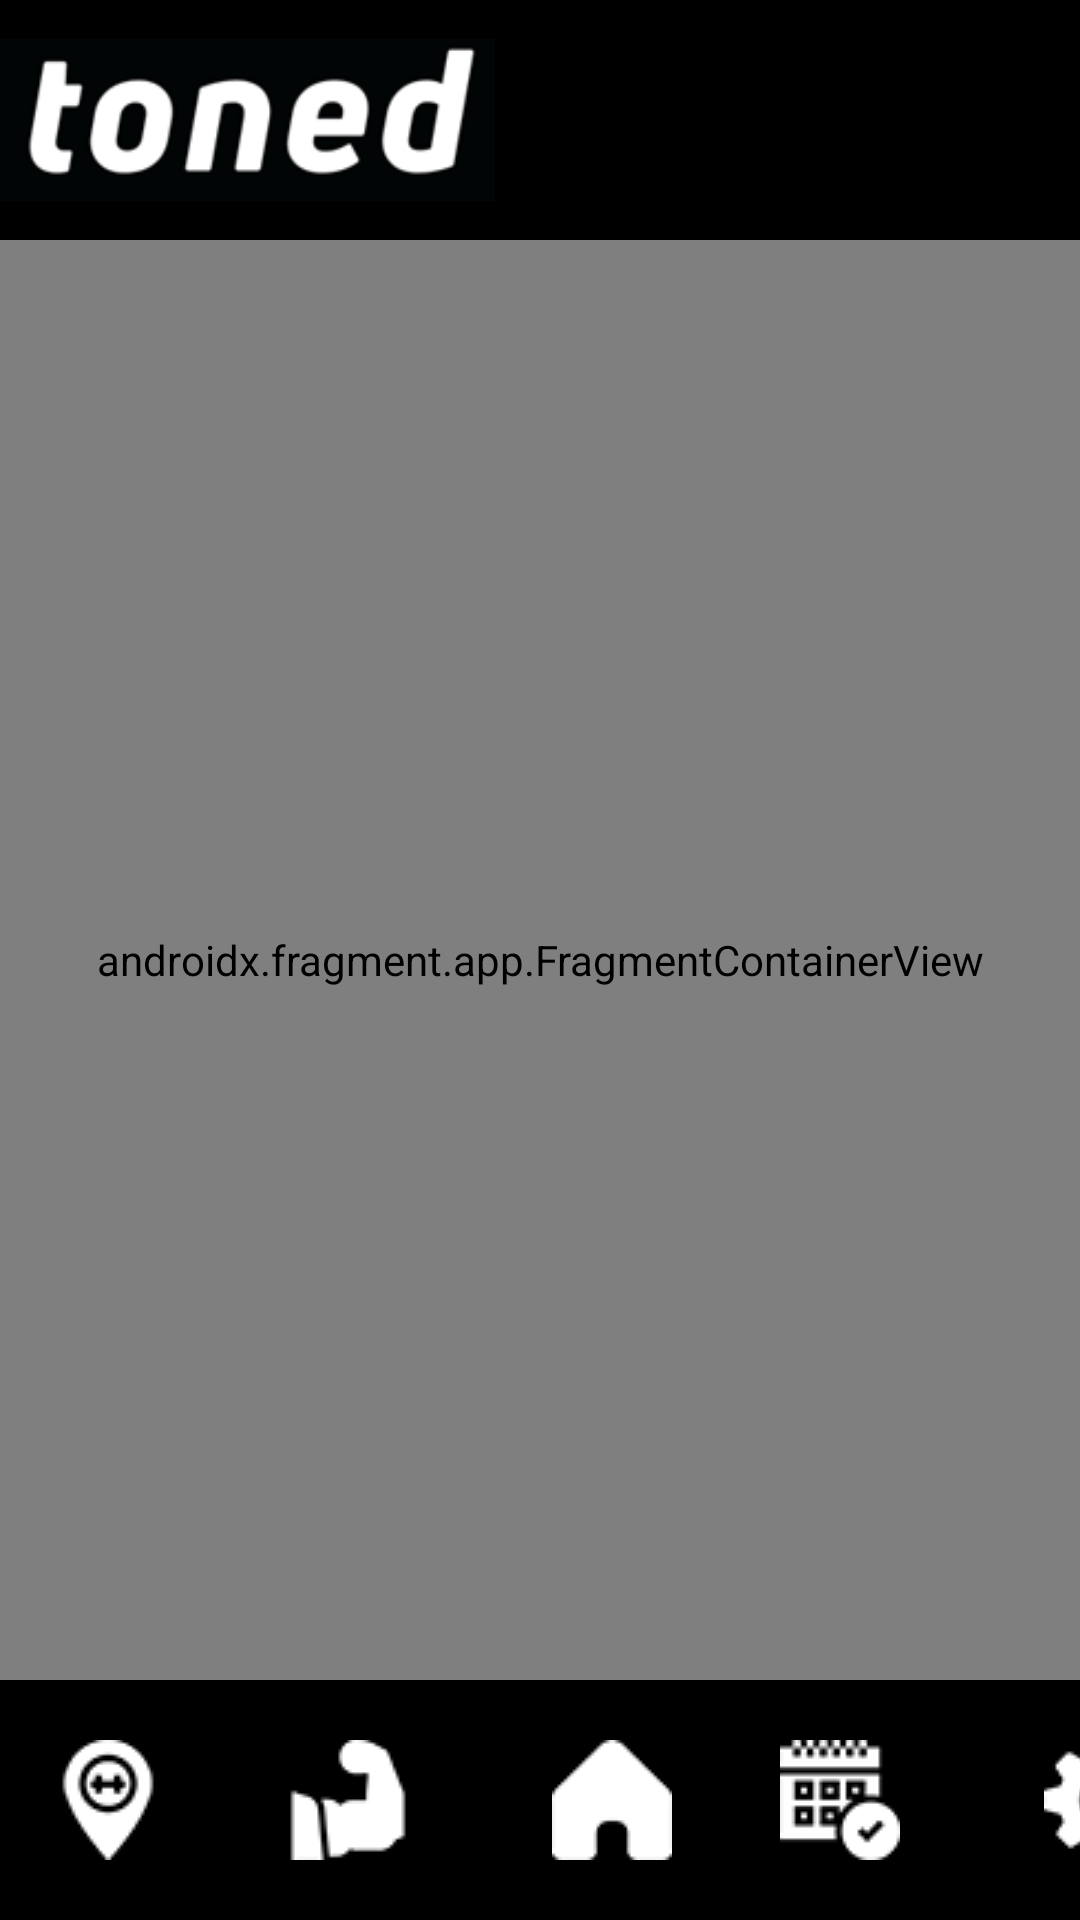

Where icons sit on this 1080w x 1920h app screen, as region(x1, y1, x2, y2):
homeicon: region(552, 1740, 672, 1860)
mapicon: region(62, 1740, 154, 1860)
streakicon: region(780, 1740, 900, 1860)
workouticon: region(290, 1740, 406, 1860)
